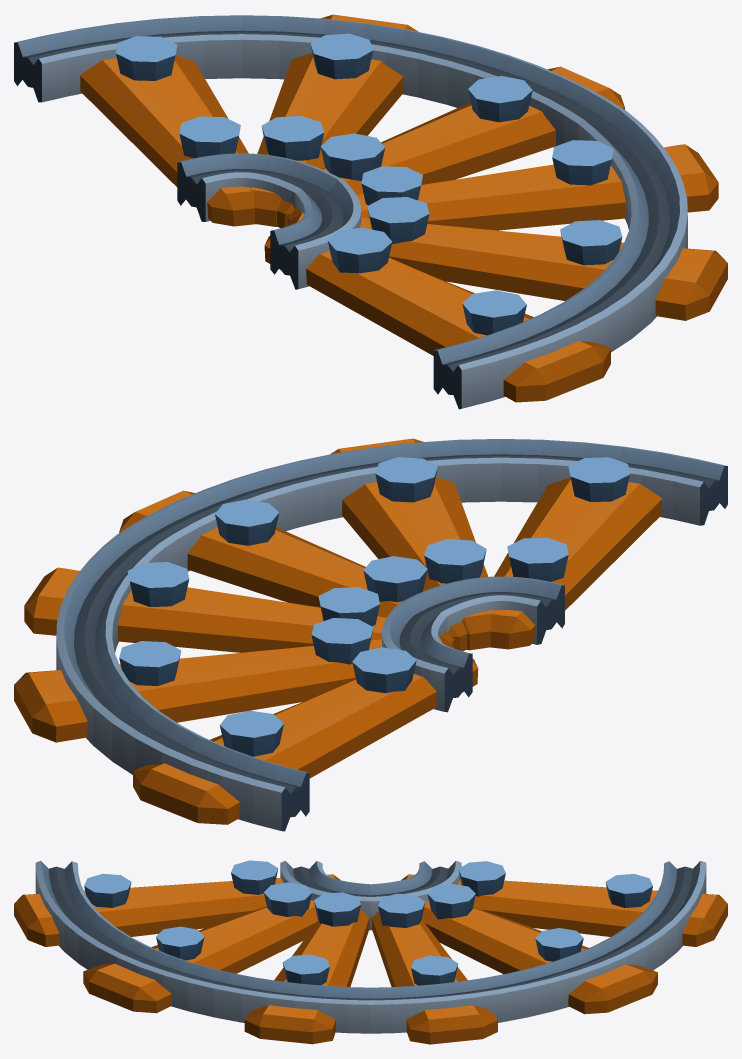
File: 2Br-U-Ray.fbx
The picture shows the model from 3 angles, top to bottom: view 1: azimuth 30°, elevation 25°; view 2: azimuth 150°, elevation 25°; view 3: azimuth 270°, elevation 25°; orthographic projection. The views are drawn at different scales.
Parts seen in each view (by area): view 1: 2Br-U-Ray; view 2: 2Br-U-Ray; view 3: 2Br-U-Ray.
Part boxes in pixels (<box>): 2Br-U-Ray: <box>14,14,727,409</box>; 2Br-U-Ray: <box>14,438,727,831</box>; 2Br-U-Ray: <box>14,860,727,1044</box>.
Size of the model in its own units: 190 by 25.32 by 372.
